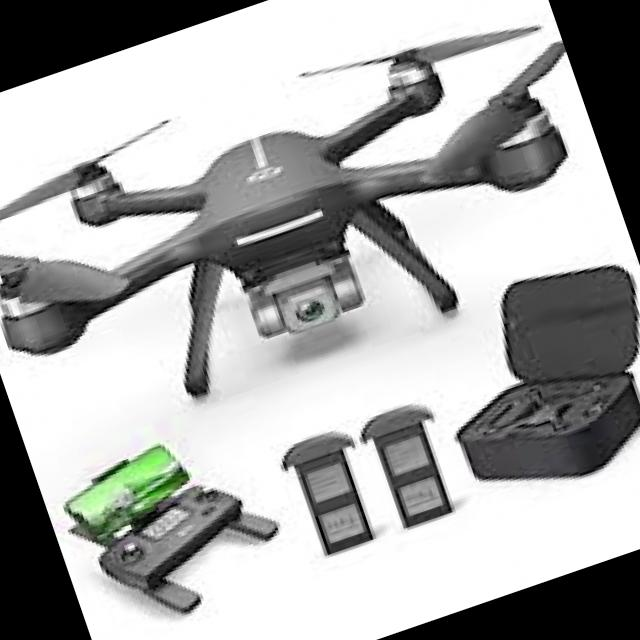drone: (0, 0, 638, 469)
